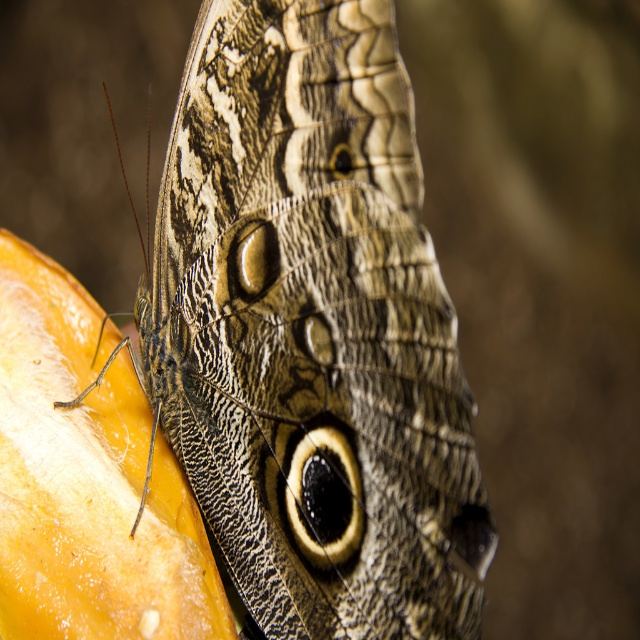Butterfly: (83, 0, 515, 640)
